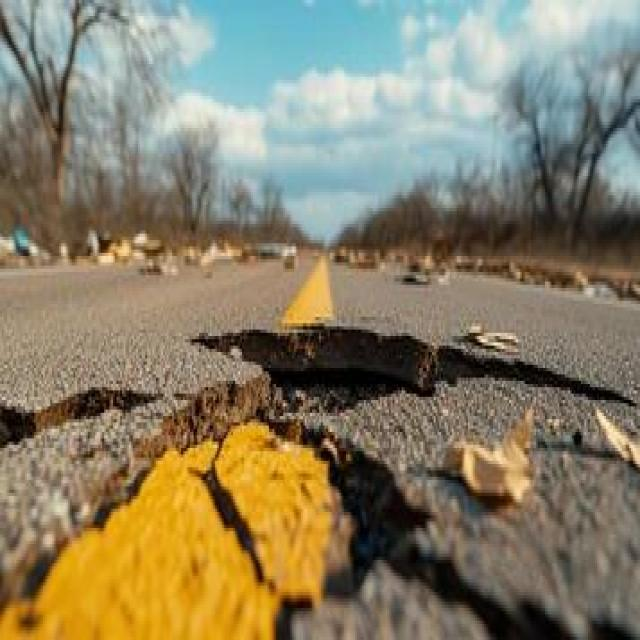road collapse: (7, 179, 640, 640)
